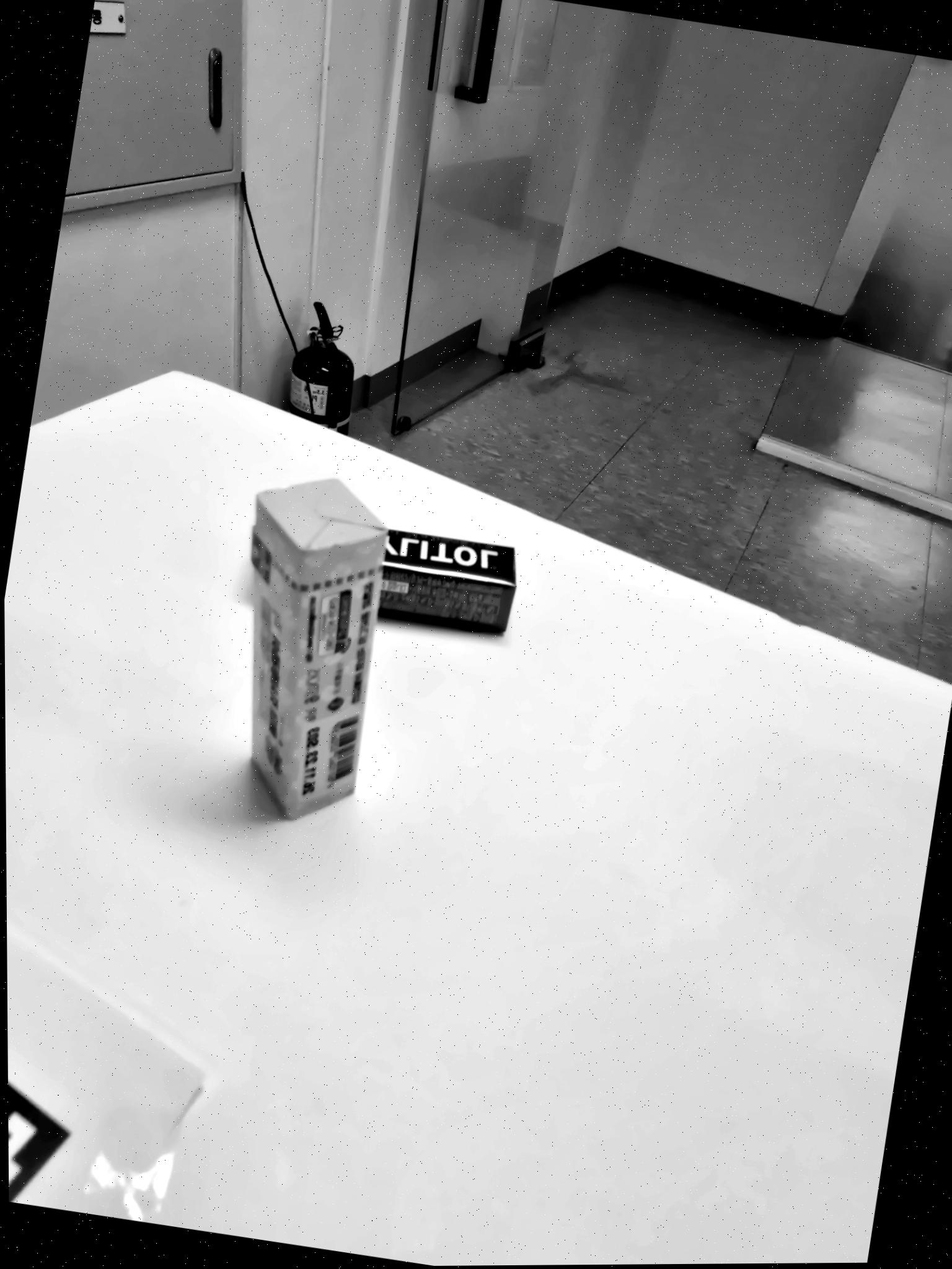gum_green: (379, 529, 516, 632)
gum_yellow: (251, 479, 387, 820)
